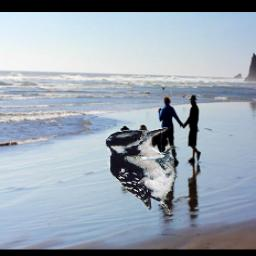Woodpecker: (106, 128, 181, 216)
